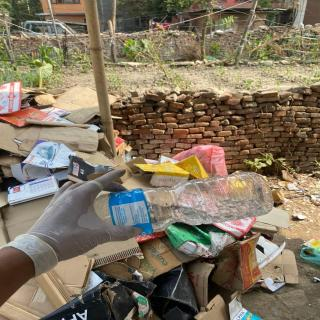Plastic-bottle: (93, 169, 278, 237)
